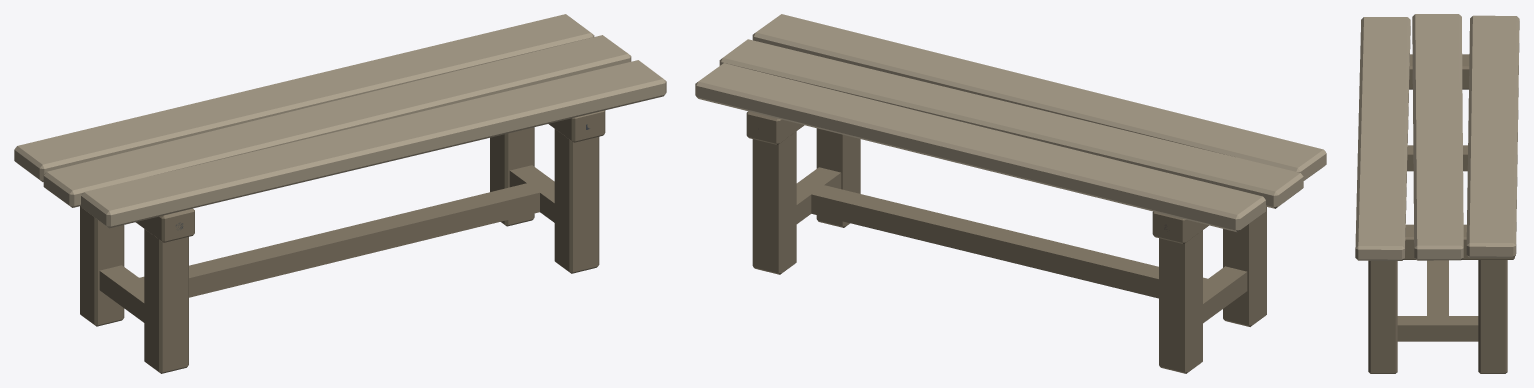
The model's file is harbour-bench.glb.
The picture shows the model from 3 angles, left to right: view 1: azimuth 30°, elevation 25°; view 2: azimuth 150°, elevation 25°; view 3: azimuth 270°, elevation 25°; orthographic projection. The views are drawn at different scales.
Parts seen in each view (by area): view 1: harbour-bench; view 2: harbour-bench; view 3: harbour-bench.
Part boxes in pixels (box(x1,y1,x2,y2)): harbour-bench: box(14, 14, 666, 373); harbour-bench: box(695, 14, 1326, 373); harbour-bench: box(1355, 14, 1519, 373).
Bounding box in the file's own units: 1.51 × 0.46 × 0.4474.
